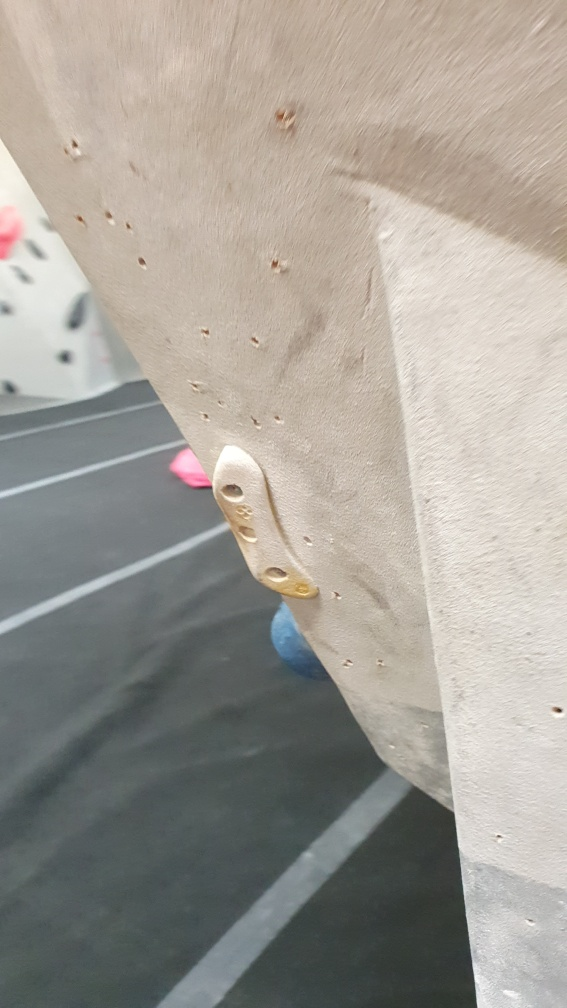Crimp: (213, 445, 323, 603)
Sloper: (271, 602, 337, 685)
